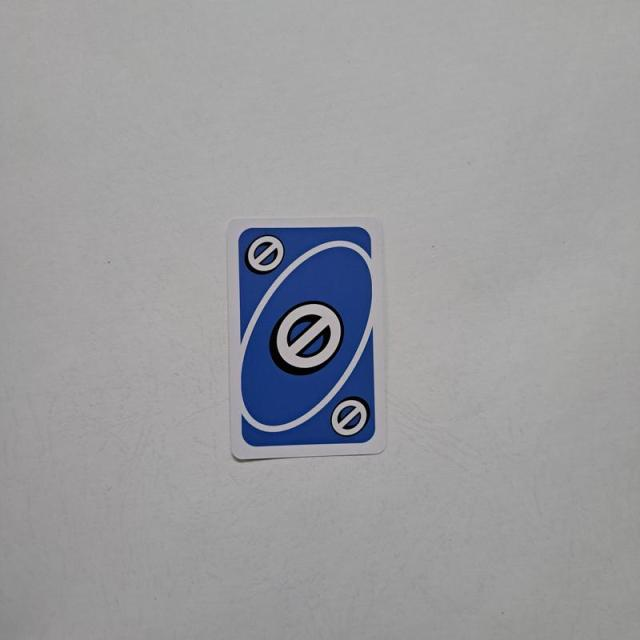Blue_Card: (235, 223, 379, 451)
Skip: (242, 228, 288, 276)
